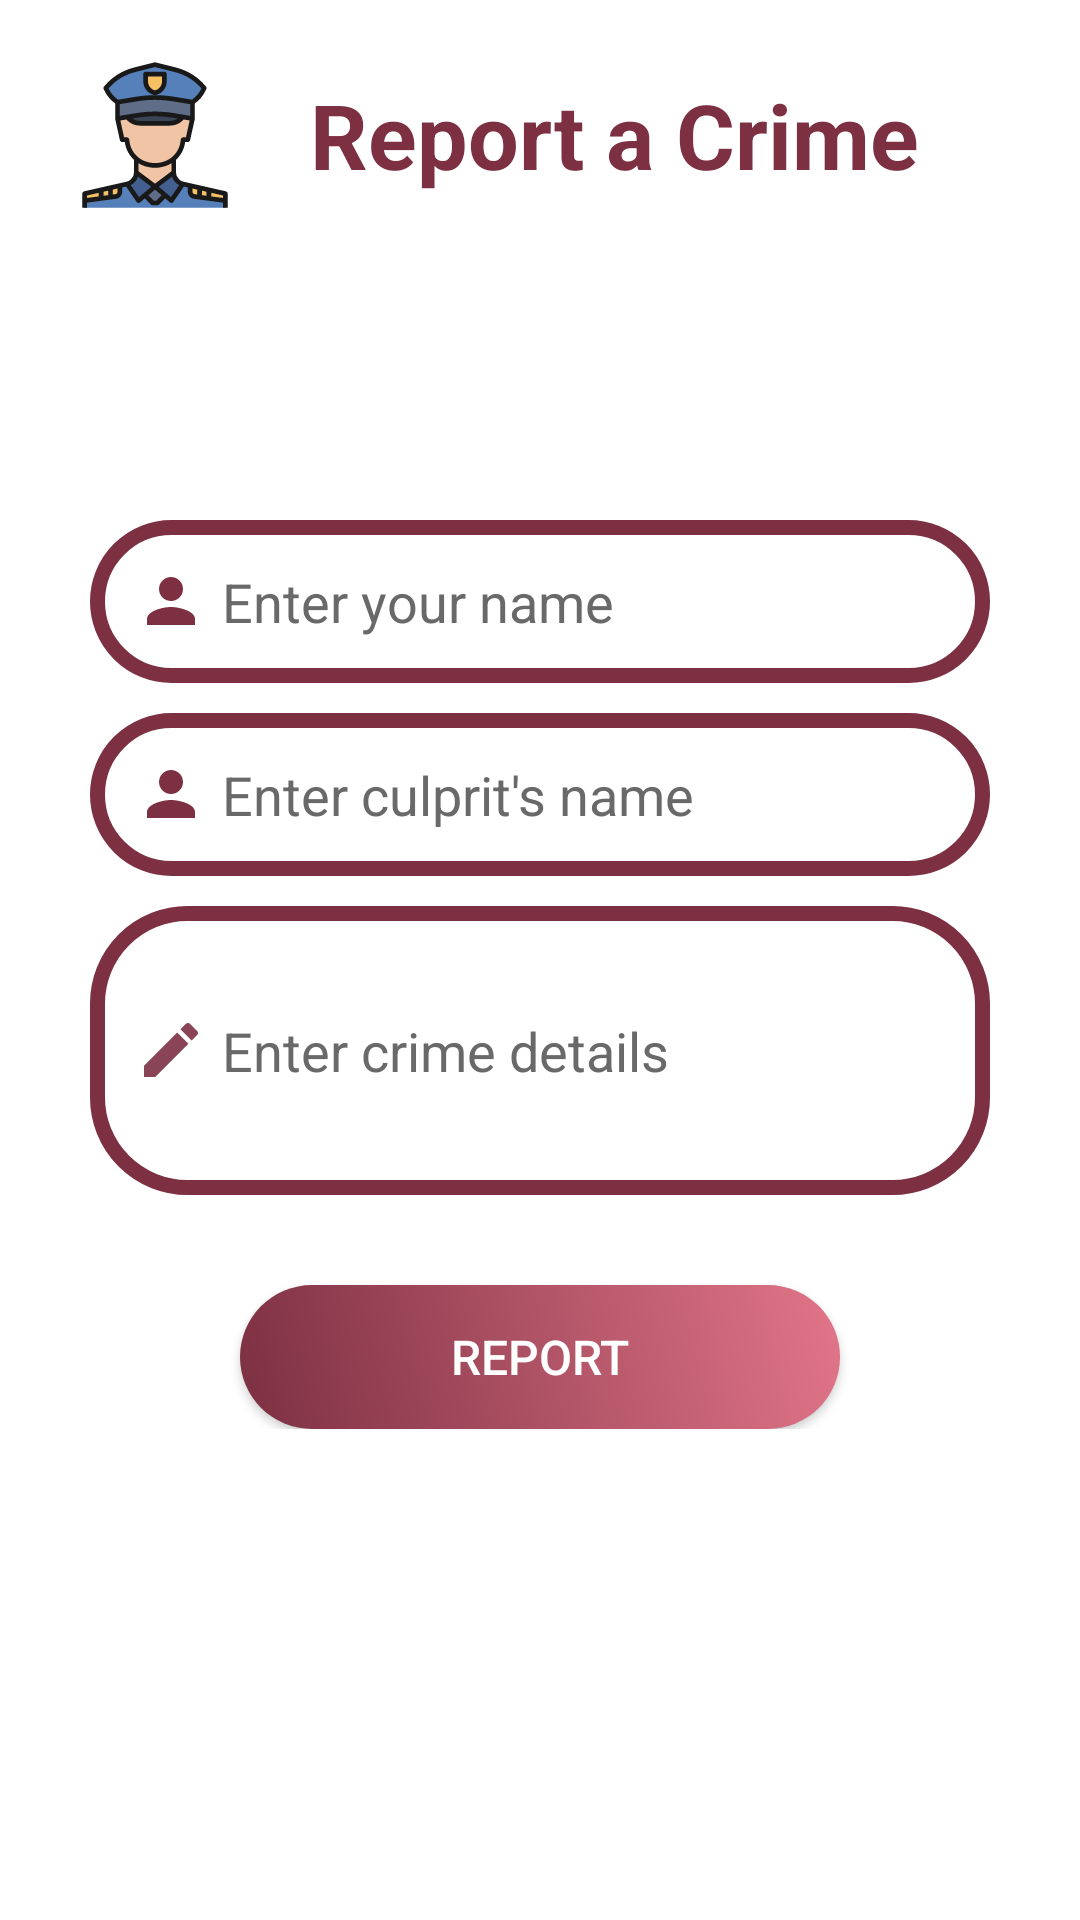

Icon click points for this 1080 × 1920 phone screenshot, format (x=x, y=y):
police: (x=155, y=135)
